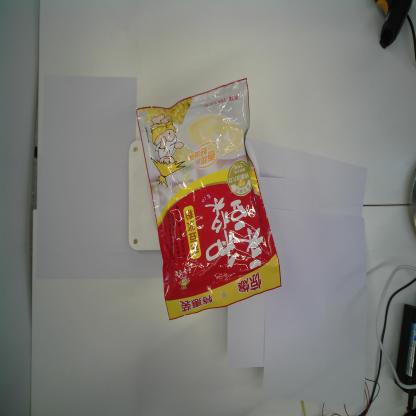Instant Drink: (136, 76, 282, 321)
